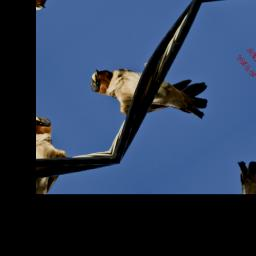Swallow: (81, 25, 224, 159)
